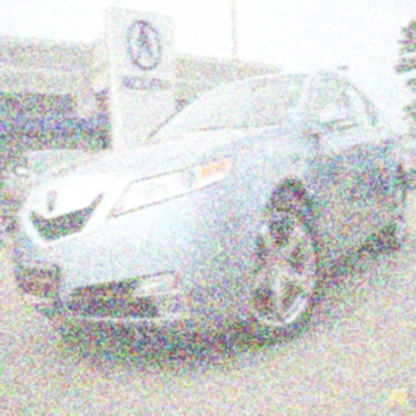Vehicle: (13, 68, 405, 340)
